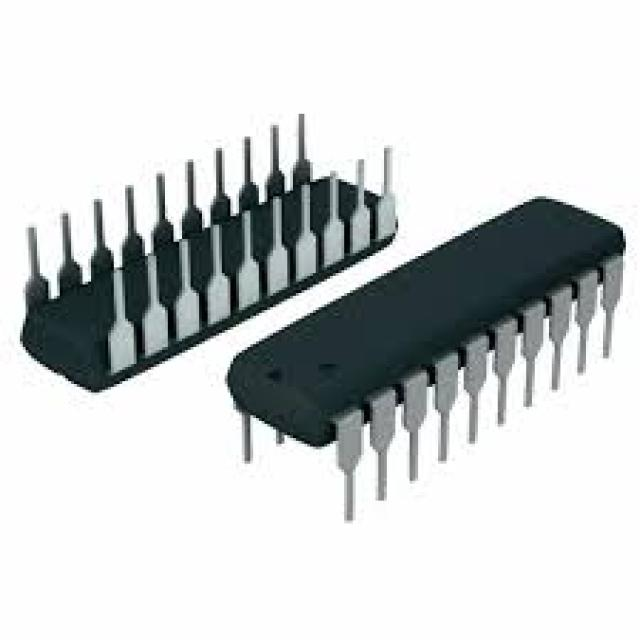IC: (232, 201, 629, 525), (13, 116, 395, 390)
